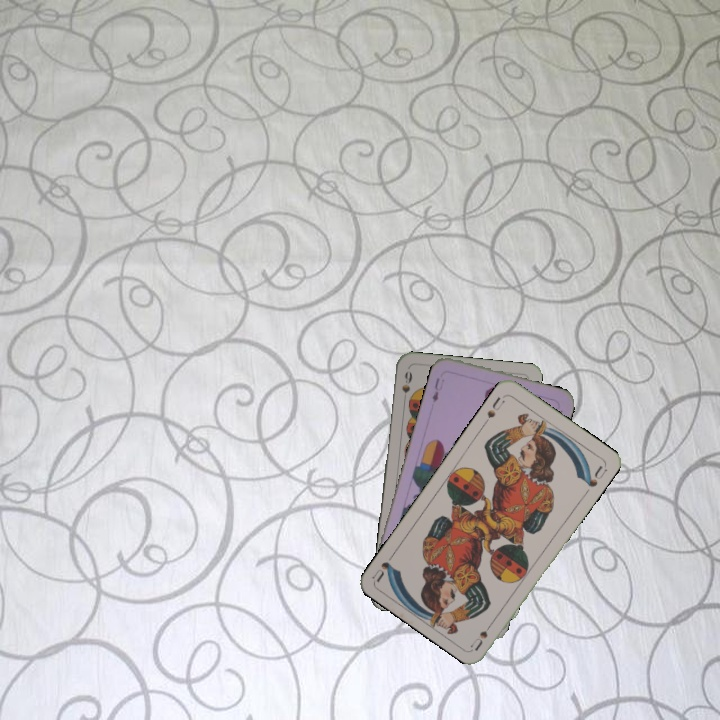EU: (428, 374, 447, 405)
S9: (398, 367, 415, 406)
SU: (467, 615, 498, 652), (480, 392, 507, 427)
